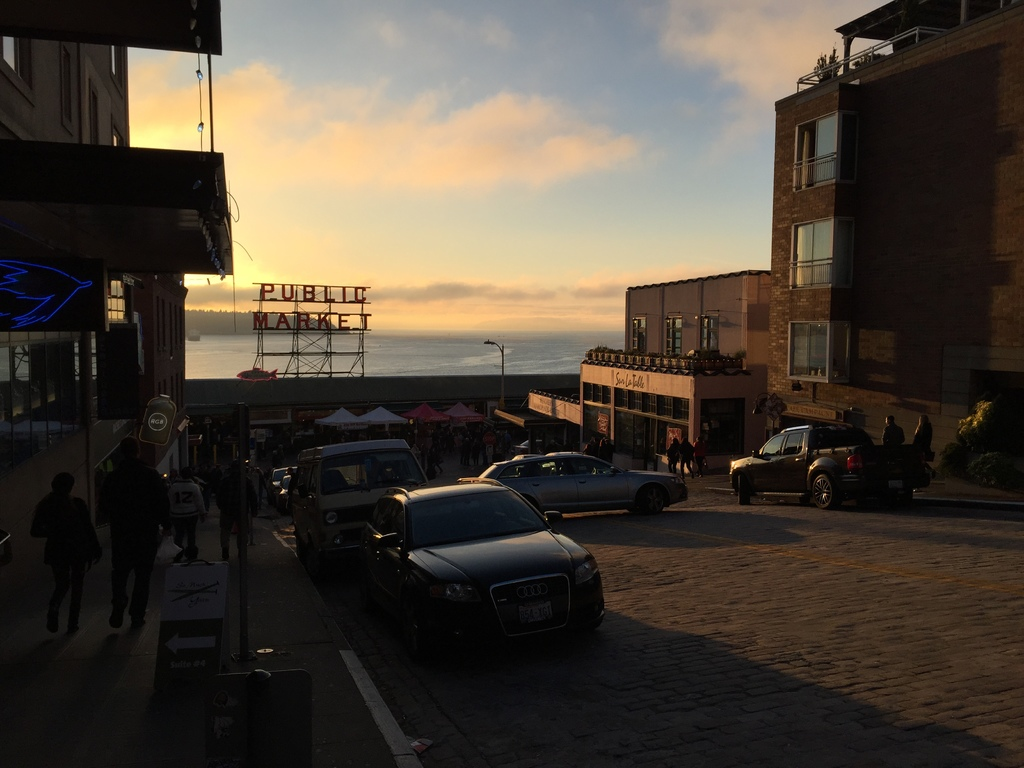Car: (350, 466, 611, 664), (730, 414, 930, 510), (471, 447, 684, 518), (266, 465, 295, 508), (275, 468, 290, 510)
